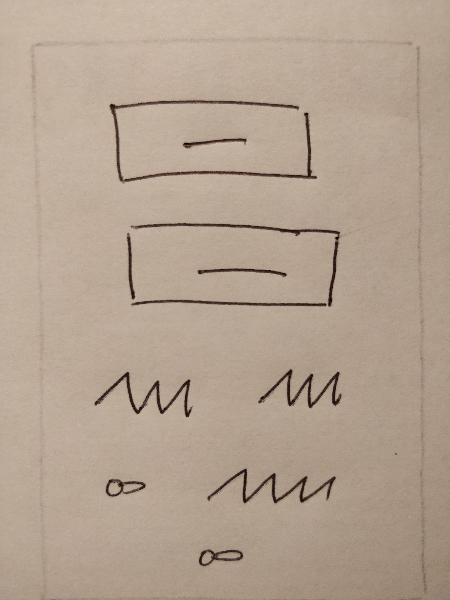button: (110, 209, 356, 322), (100, 93, 340, 194)
switch: (187, 539, 257, 576), (97, 469, 159, 506)
text: (199, 457, 347, 514), (85, 364, 209, 430), (251, 360, 361, 414)
